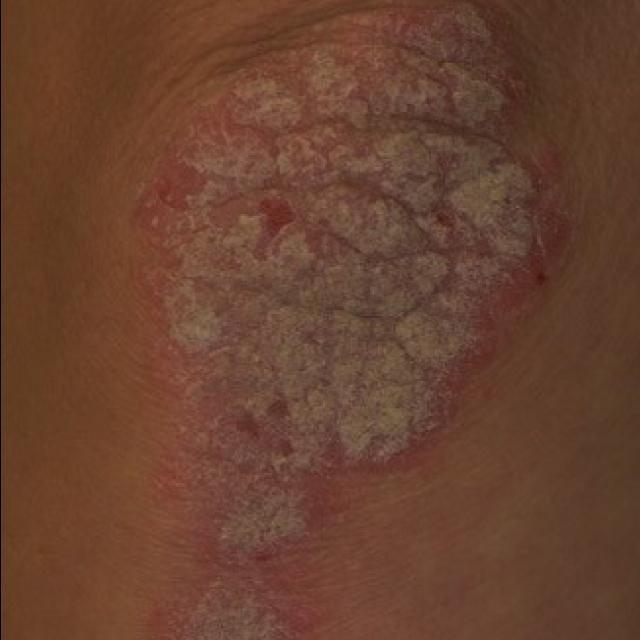Psoriasis: (77, 0, 577, 640)
